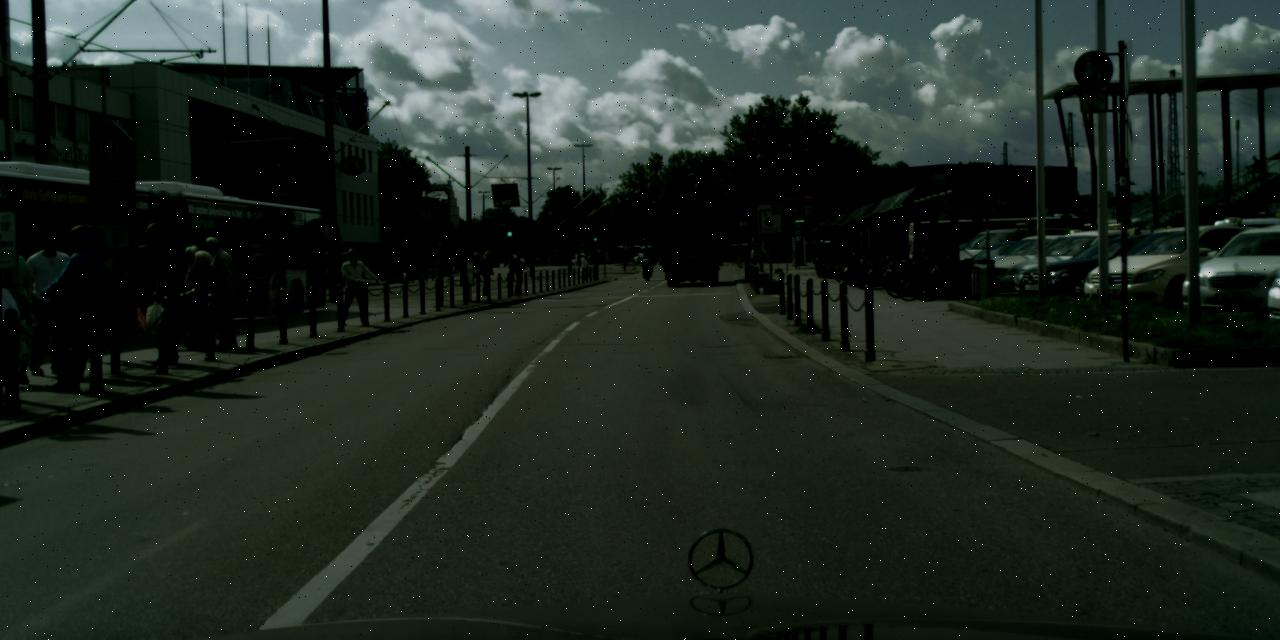ped: (41, 224, 108, 390), (19, 228, 79, 373), (132, 222, 190, 366), (0, 236, 38, 383), (196, 236, 242, 347), (173, 244, 213, 344), (185, 250, 225, 348), (337, 248, 367, 323), (477, 250, 495, 295), (509, 252, 526, 293), (472, 254, 484, 282), (748, 244, 758, 272), (401, 257, 411, 282), (642, 252, 651, 272), (391, 258, 397, 272)
